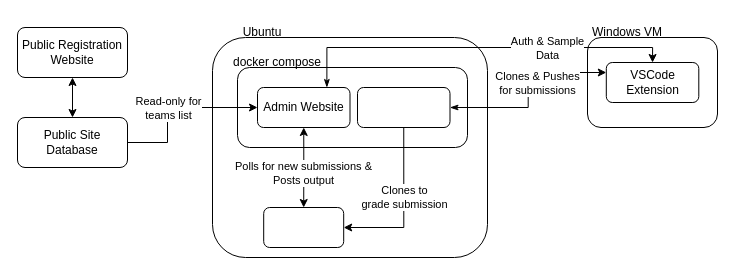
Image size: 735x275. Some labels were removed from this diagram. The centre of each missing label's shape, as x and y in pixels:
git server: the point at 403,107
Sandbox: the point at 303,227
